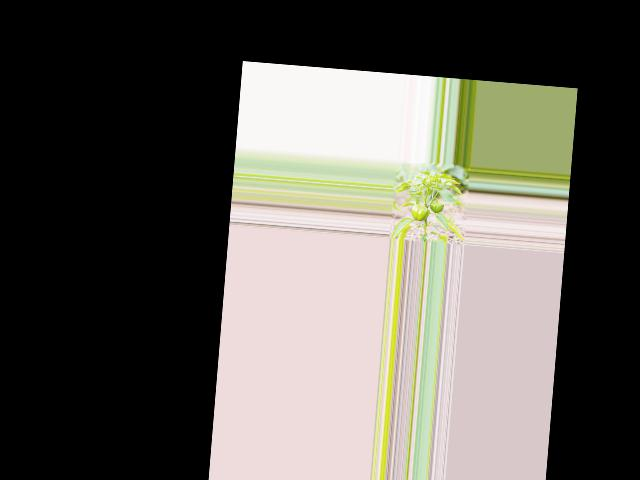bell_pepper: (429, 199, 445, 214)
